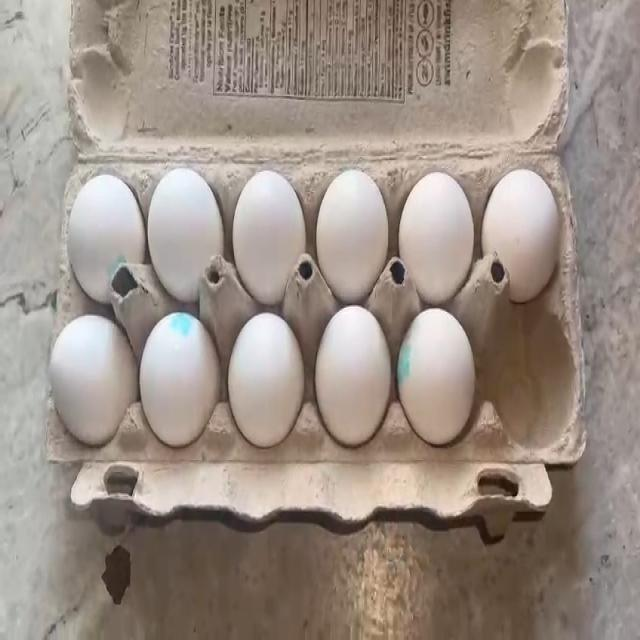Egg: (56, 328, 140, 448), (322, 318, 395, 446), (400, 320, 482, 428), (235, 324, 310, 432), (154, 165, 222, 283), (68, 170, 138, 278), (491, 168, 562, 272), (152, 330, 222, 434), (324, 183, 384, 282), (244, 172, 297, 280)
